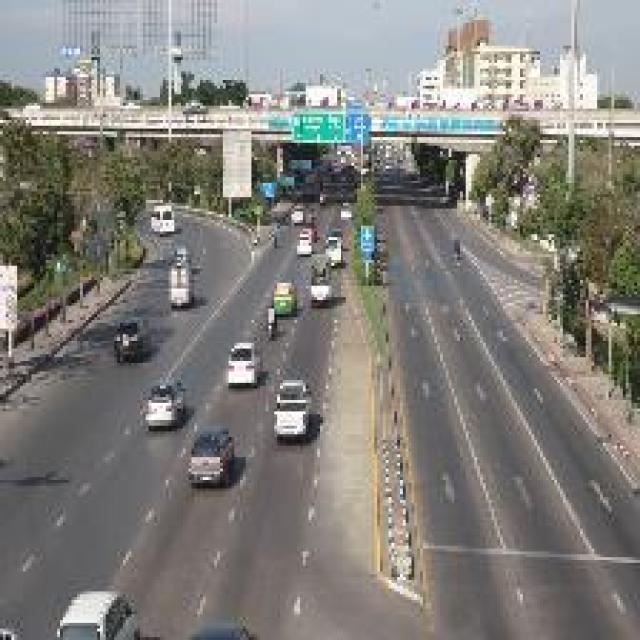other: (216, 328, 315, 444)
